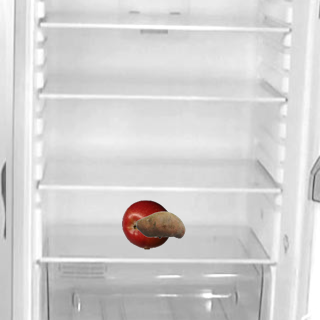Apple Braeburn: (121, 199, 171, 249)
Potato Sweet: (135, 199, 185, 249)
